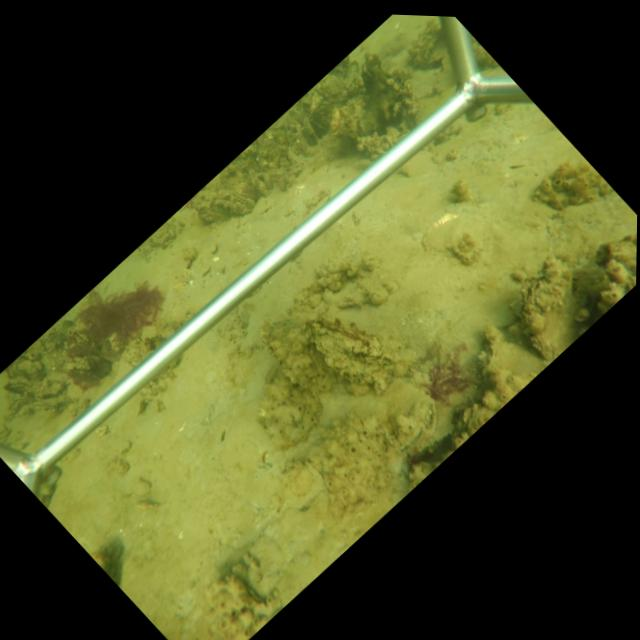Oyster-Closed: (519, 255, 580, 362), (259, 312, 336, 393), (25, 394, 73, 414), (248, 168, 269, 198), (229, 188, 257, 208), (303, 117, 320, 144)
Oyster-Indeterminate: (312, 316, 400, 389)
